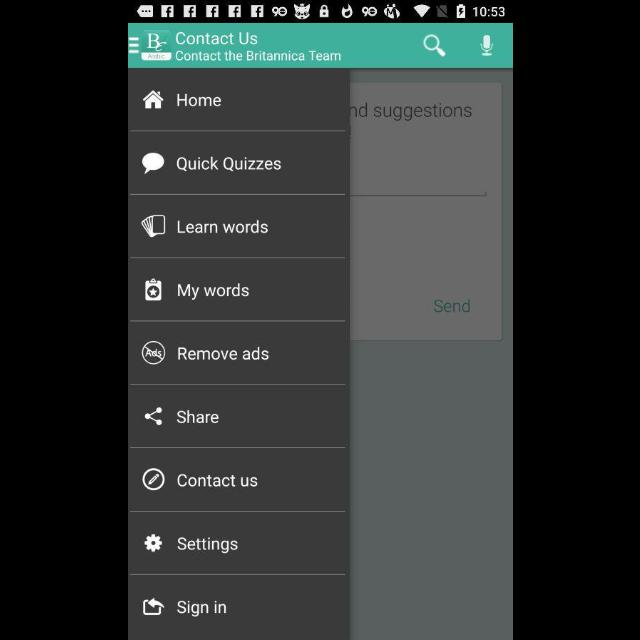icon: (422, 34, 444, 58), (141, 153, 165, 175), (142, 467, 164, 491), (142, 90, 164, 110), (144, 278, 162, 302), (142, 597, 164, 615), (144, 408, 162, 427), (144, 534, 162, 552), (479, 35, 493, 57), (128, 36, 138, 54)
image: (139, 30, 171, 61), (141, 215, 165, 239), (141, 342, 165, 366)
panel: (128, 68, 350, 640)
text: (175, 51, 341, 63), (176, 156, 280, 174), (177, 283, 249, 301), (176, 220, 268, 234), (177, 347, 269, 361), (175, 32, 257, 46), (176, 474, 258, 488), (176, 536, 238, 554), (177, 600, 226, 618), (177, 94, 221, 108), (176, 410, 218, 424)
toolbar: (128, 24, 512, 68)
uppertaskbar: (128, 1, 512, 23)
